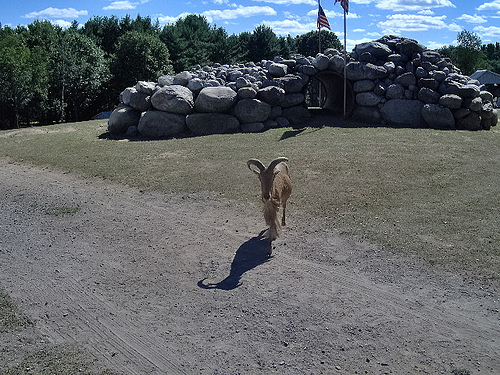goat: (247, 156, 293, 256)
